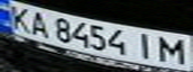4: (106, 26, 130, 56), (69, 19, 90, 48)
5: (87, 22, 109, 52)
8: (48, 16, 72, 44)
A: (24, 9, 54, 38)
I: (130, 30, 160, 61)
K: (3, 2, 36, 33)
M: (154, 34, 190, 65)
